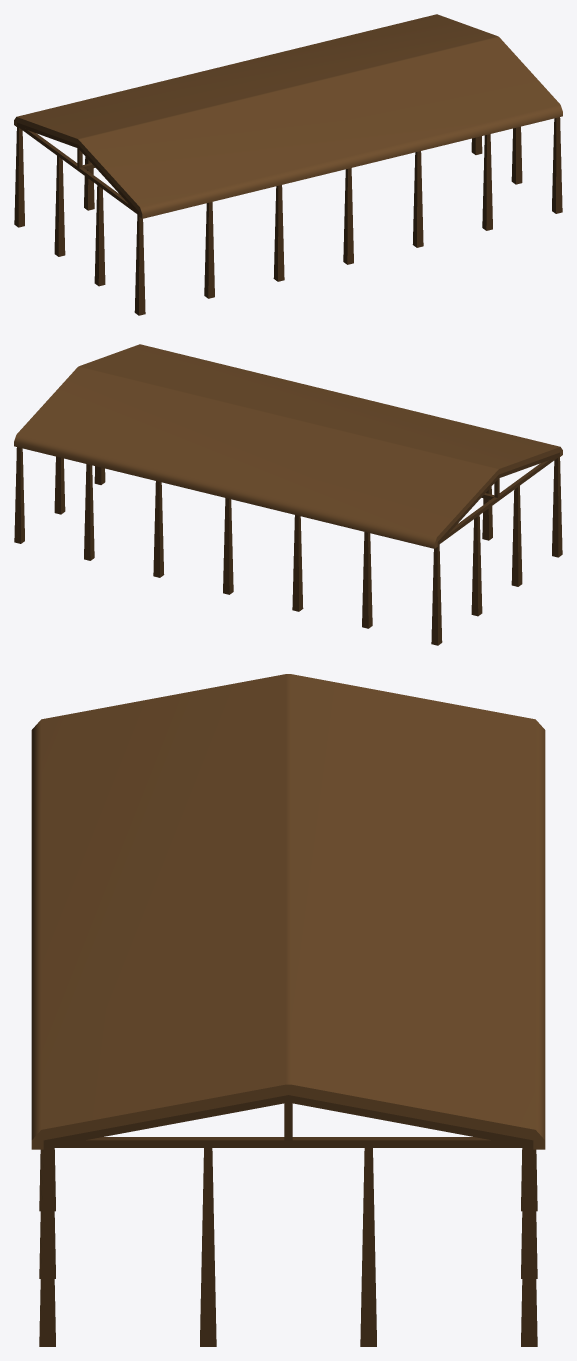
File: Pergolas and open houses(1).glb
3 views of the same model, one above another, from view 1: azimuth 30°, elevation 25°; view 2: azimuth 150°, elevation 25°; view 3: azimuth 270°, elevation 25° (orthographic). The views are drawn at different scales.
Visible parts, largest first — view 1: Root; view 2: Root; view 3: Root.
Part boxes in pixels (x1,y1,x2,y2): Root: [14, 14, 562, 315]; Root: [14, 344, 562, 645]; Root: [31, 674, 545, 1346].
Size of the model in its own units: 14.24 by 4.19 by 7.47.
